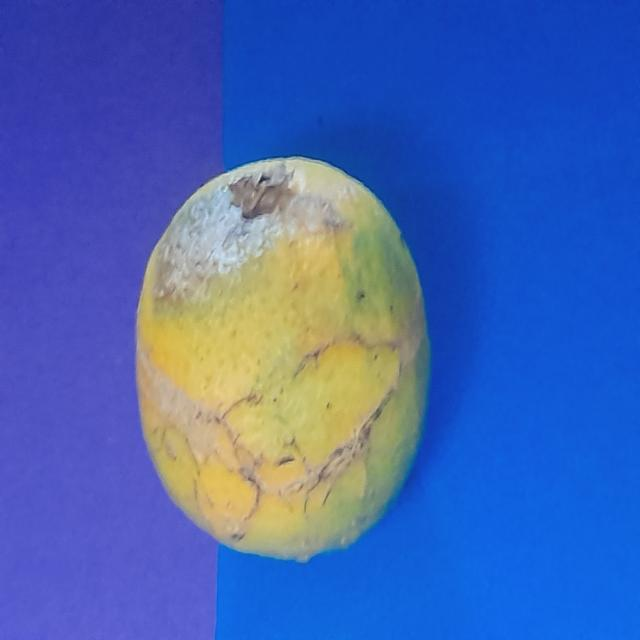thrips: (125, 162, 430, 559)
